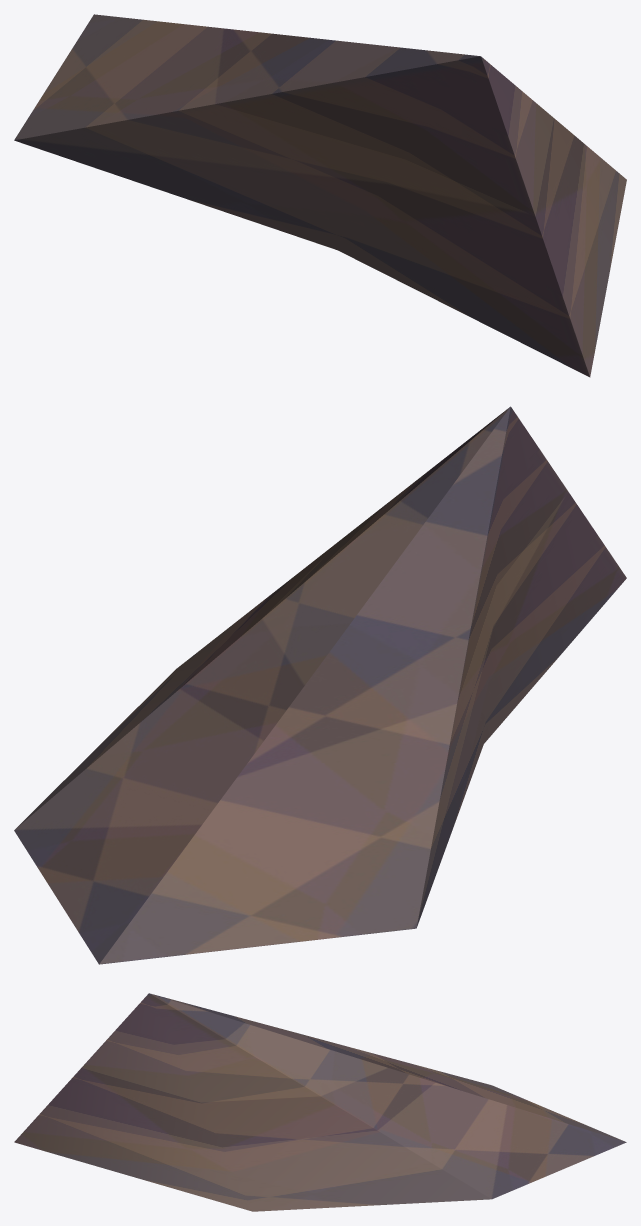
File: rock2.fbx
3 views of the same model, one above another, from view 1: azimuth 30°, elevation 25°; view 2: azimuth 150°, elevation 25°; view 3: azimuth 270°, elevation 25° (orthographic). The views are drawn at different scales.
Parts seen in each view (by area): view 1: pPyramid1; view 2: pPyramid1; view 3: pPyramid1.
Boxes of the visible parts, x1,y1,x2,y2 form: pPyramid1: (14, 14, 626, 377); pPyramid1: (14, 406, 626, 964); pPyramid1: (14, 993, 626, 1211).
Bounding box in the file's own units: 1.57 × 0.8623 × 3.21.
Materials: 1 (1 with a texture image).
